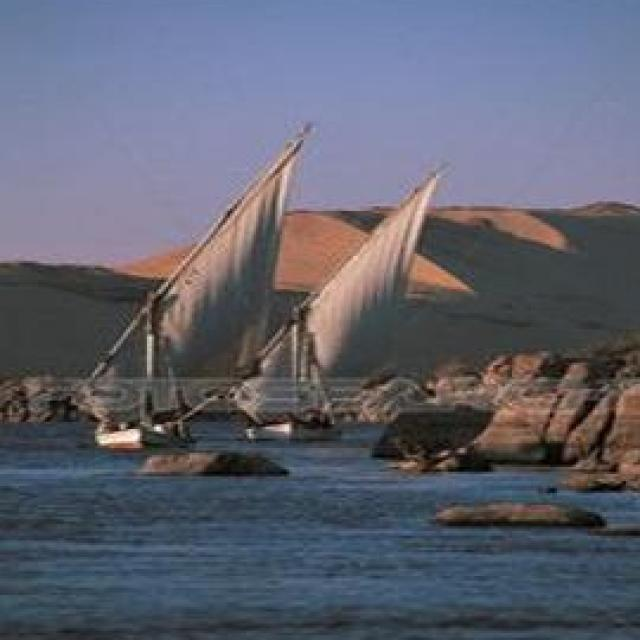sailboat: (67, 129, 277, 446), (239, 181, 410, 458)
